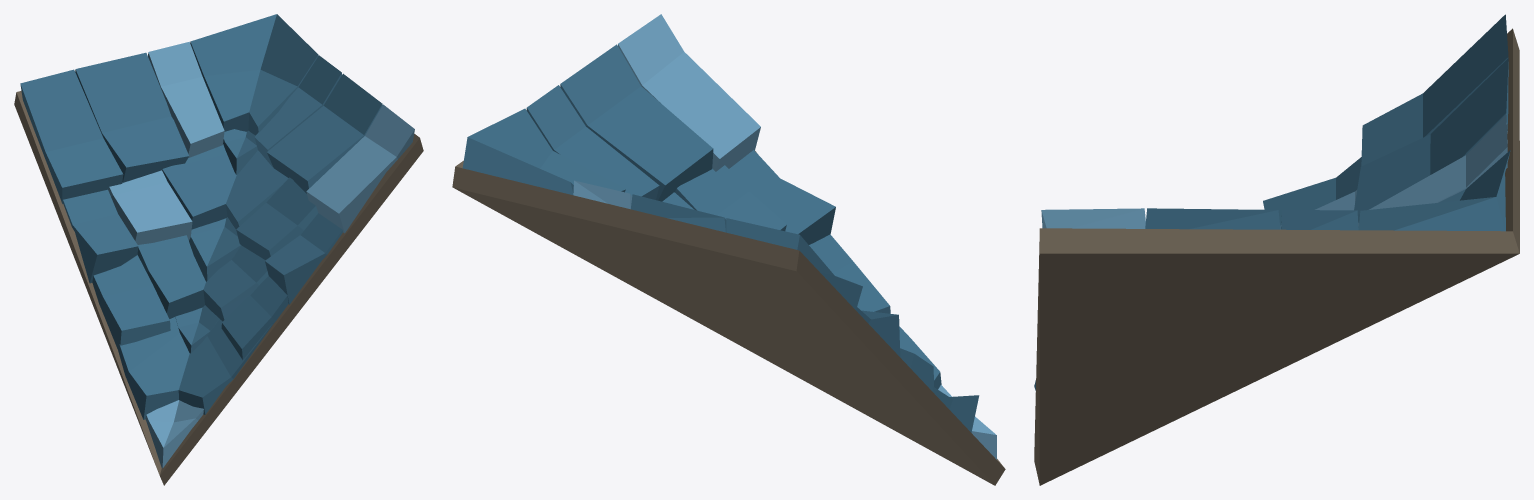
Rendered from ROOF_inner_corner_1.fbx.
3 renders of one model, left to right at view 1: azimuth 30°, elevation 25°; view 2: azimuth 150°, elevation 25°; view 3: azimuth 270°, elevation 25°, orthographic. The views are drawn at different scales.
Visible parts, largest first — view 1: ROOF_inner_corner_1; view 2: ROOF_inner_corner_1; view 3: ROOF_inner_corner_1.
Boxes of the visible parts, box(x1,y1,x2,y2) form: ROOF_inner_corner_1: box(14, 14, 423, 485); ROOF_inner_corner_1: box(452, 14, 1005, 485); ROOF_inner_corner_1: box(1034, 14, 1519, 485).
Bounding box in the file's own units: 102 × 112 × 101.
